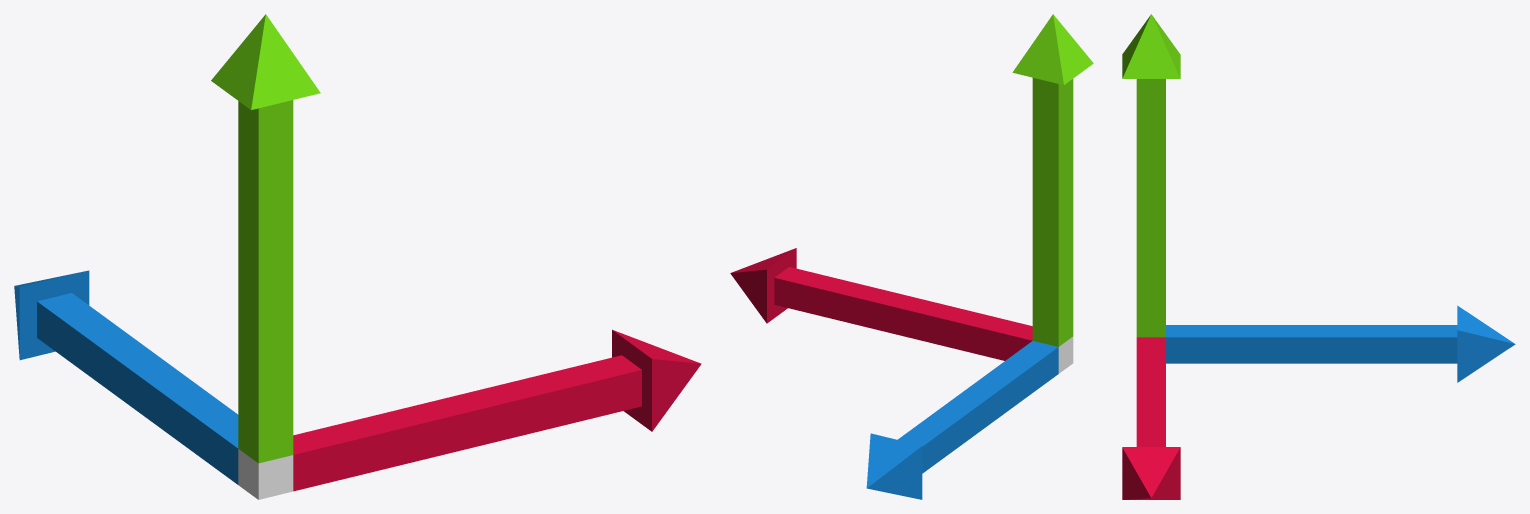
File: axis.glb
The picture shows the model from 3 angles, left to right: view 1: azimuth 30°, elevation 25°; view 2: azimuth 150°, elevation 25°; view 3: azimuth 270°, elevation 25°; orthographic projection. The views are drawn at different scales.
Parts seen in each view (by area): view 1: Cube; view 2: Cube; view 3: Cube.
Part boxes in pixels (x1=…): Cube: x1=14, y1=14, x2=701, y2=499; Cube: x1=730, y1=14, x2=1093, y2=499; Cube: x1=1122, y1=14, x2=1515, y2=499.
Bounding box in the file's own units: 182 × 182 × 182.
